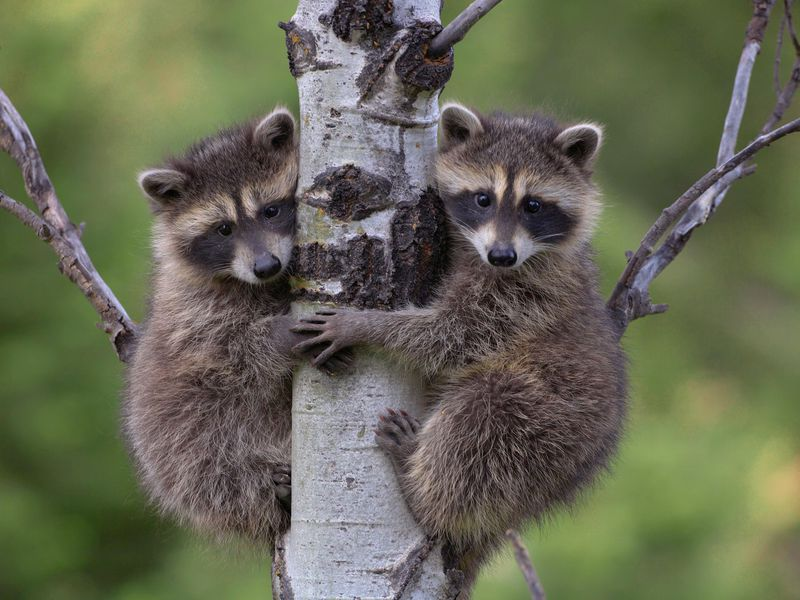raccoon: (362, 83, 649, 589), (96, 105, 342, 560)
